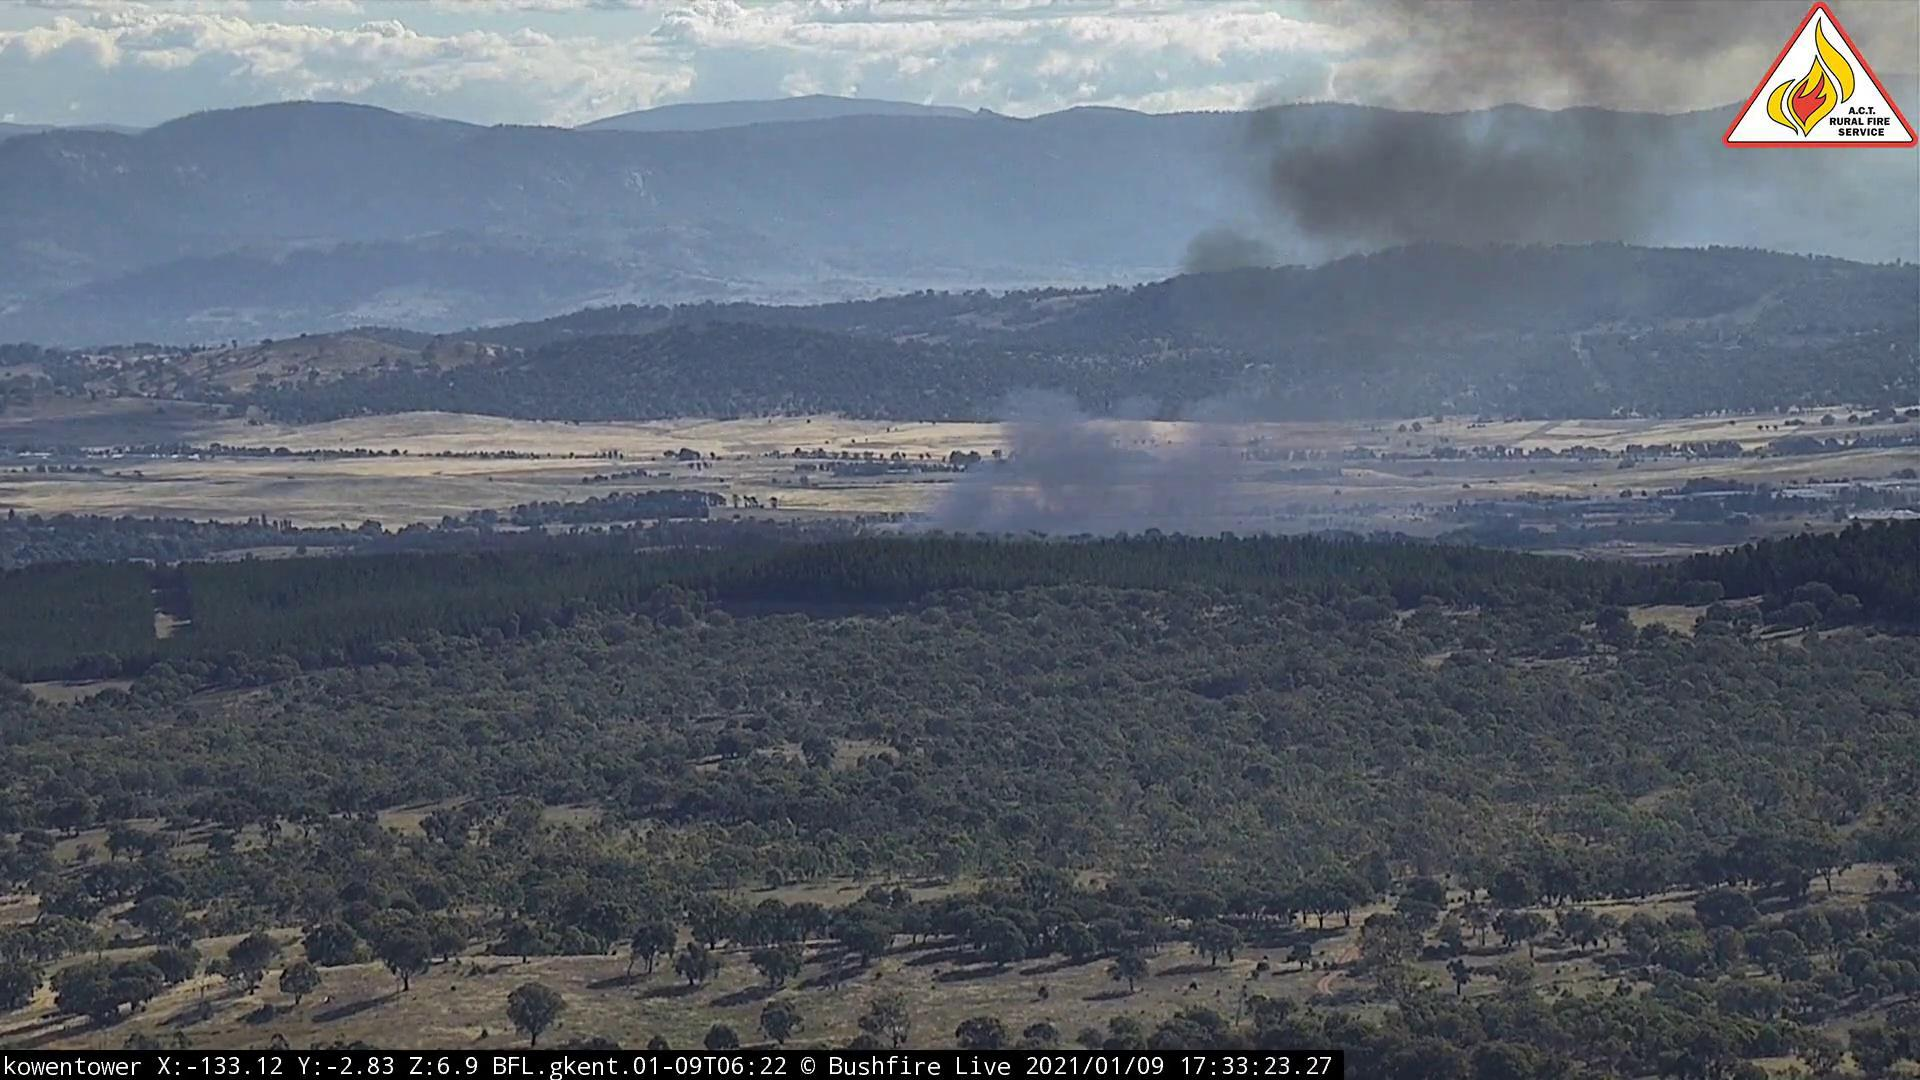Smoke: (891, 3, 1717, 553)
